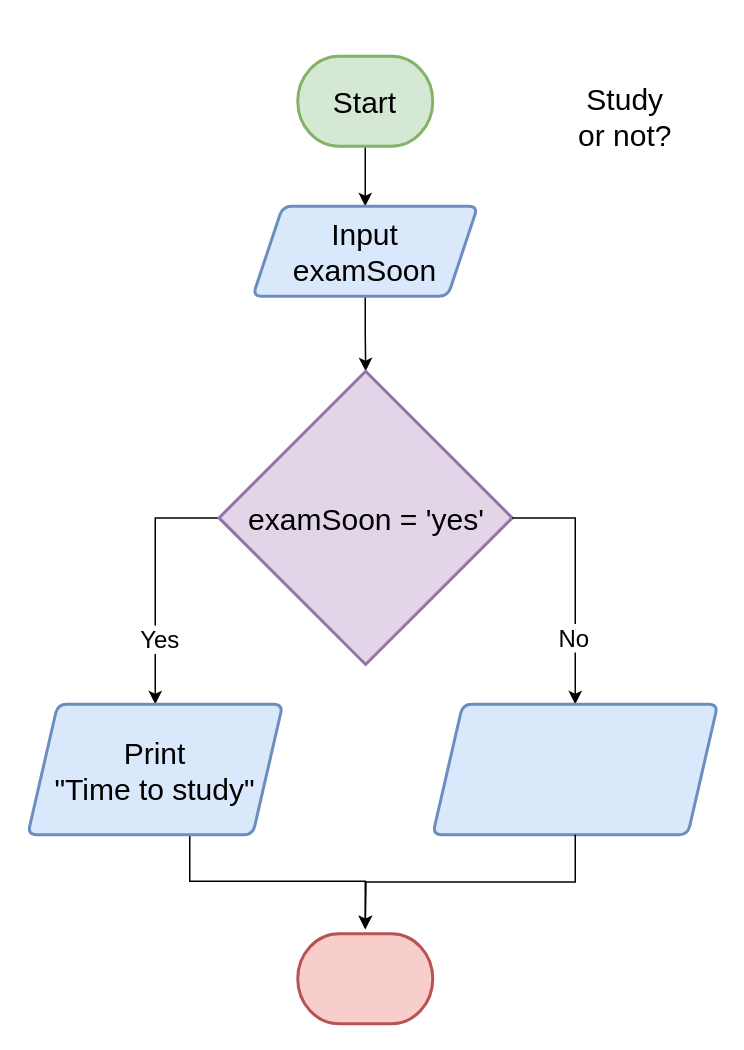
The diagram is 744 pixels wide and 1050 high, and some of its shapes have lost their labels. The shapes that lost their labels are listed below. From the top down, each one's centre as x and y in pixels, then its label:
pixel 574 769: Print "Take a break"
pixel 365 978: End
